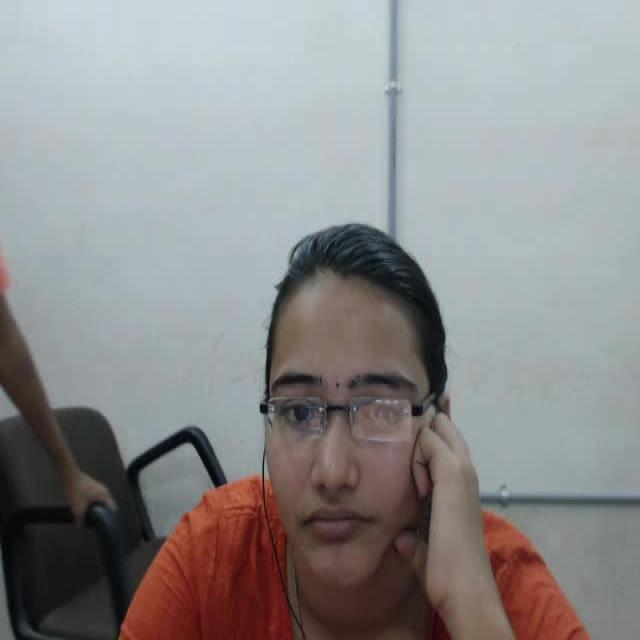Bored: (223, 182, 492, 608)
